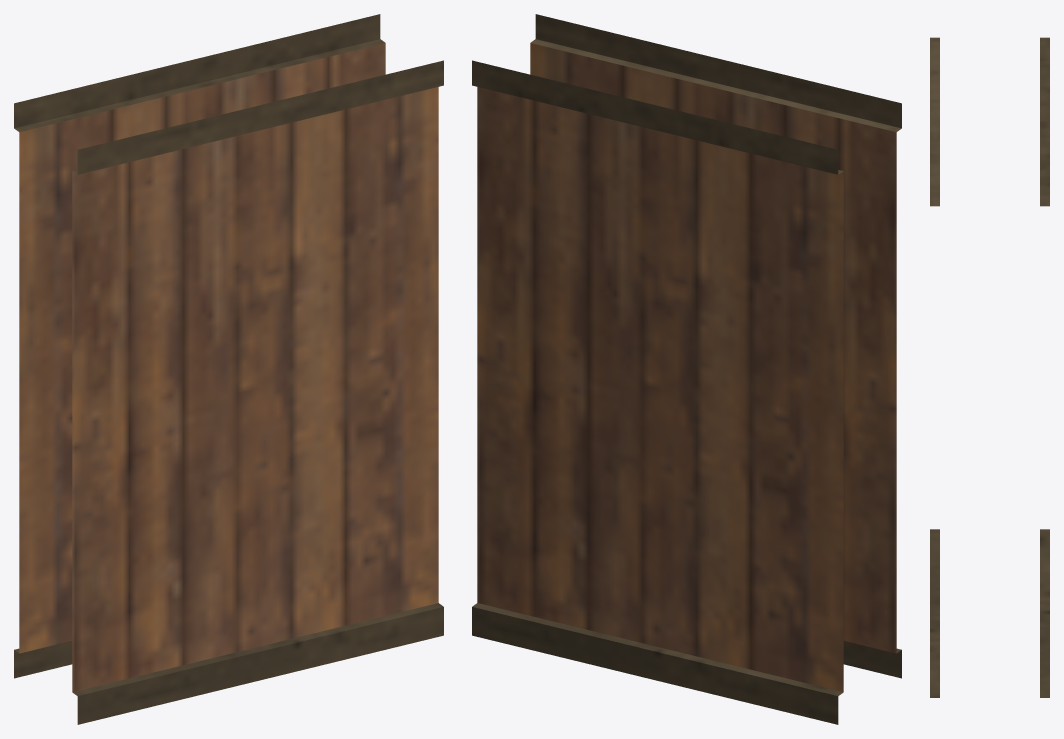
The model's file is MS_3mWallpiece_I.fbx.
3 renders of one model, left to right at view 1: azimuth 30°, elevation 25°; view 2: azimuth 150°, elevation 25°; view 3: azimuth 270°, elevation 25°, orthographic. The views are drawn at different scales.
Visible parts, largest first — view 1: Cube; view 2: Cube; view 3: Cube.
Part boxes in pixels (x1,y1,x2,y2): Cube: (14,14,443,724); Cube: (472,14,901,724); Cube: (930,37,1049,697).
Bounding box in the file's own units: 200 × 300 × 60.
